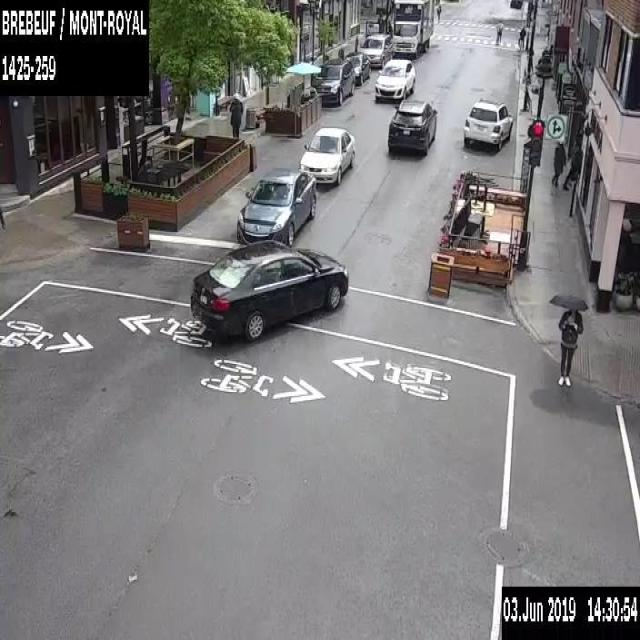cyclist: (494, 16, 504, 43), (516, 27, 526, 48)
pedestrian: (549, 289, 588, 388), (563, 144, 581, 188), (228, 93, 245, 136), (550, 142, 566, 186), (434, 0, 441, 20)
vehicle: (190, 236, 348, 338), (236, 170, 317, 247), (296, 125, 354, 186), (462, 100, 514, 149), (388, 99, 436, 152), (391, 0, 433, 56), (308, 54, 356, 102), (374, 58, 416, 101), (360, 30, 393, 68), (340, 50, 370, 86)
